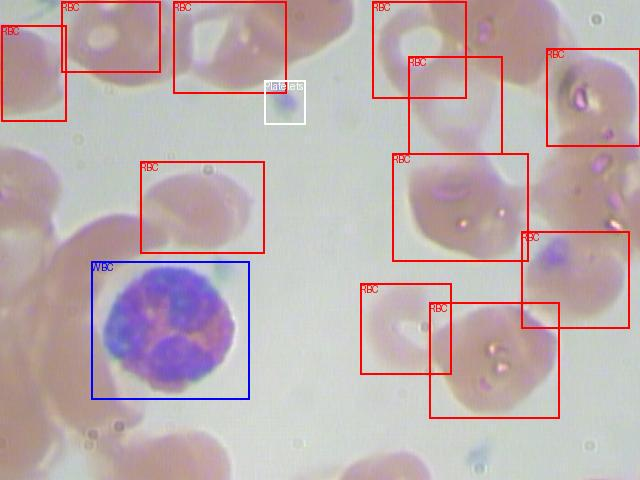Platelets: (264, 80, 305, 124)
RBC: (429, 302, 559, 418), (392, 153, 528, 261), (140, 161, 264, 253), (521, 231, 629, 328), (173, 1, 286, 93), (408, 56, 502, 154), (546, 48, 640, 146), (372, 1, 466, 98), (360, 283, 451, 374), (61, 1, 160, 72), (1, 25, 66, 121)
WBC: (91, 261, 249, 399)
